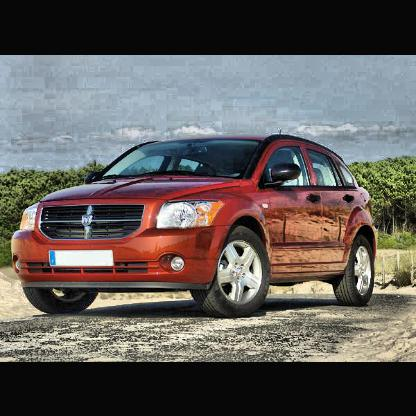Dodge Caliber Wagon 2007: (11, 132, 377, 319)
